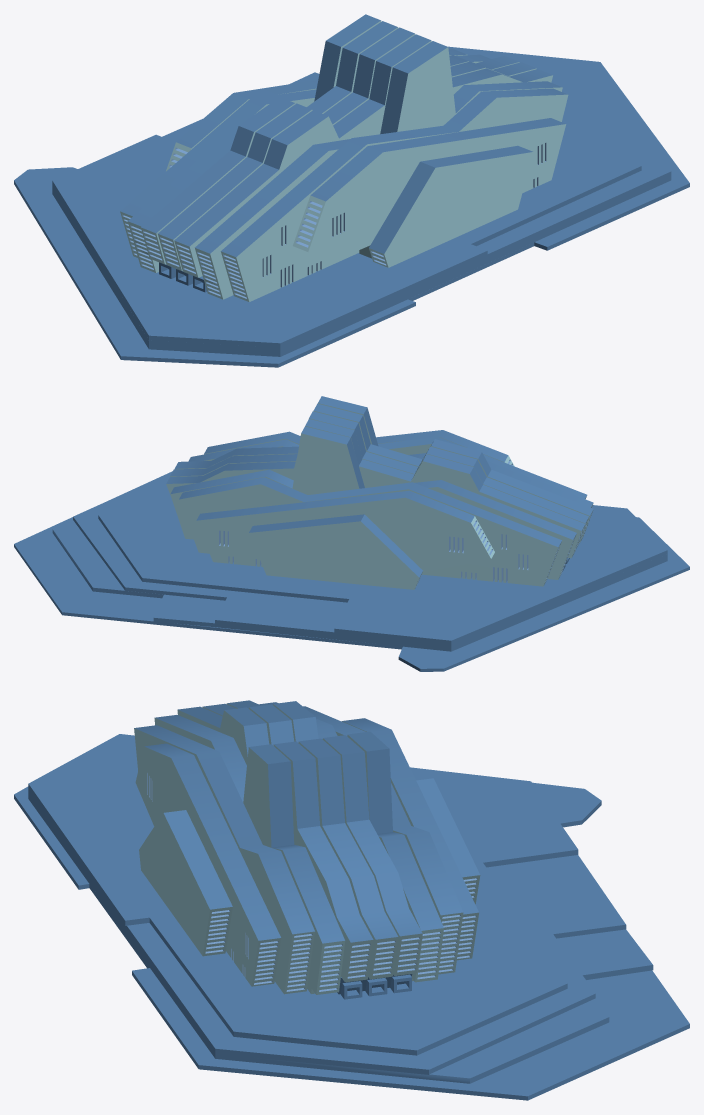
The model's file is djy.gltf.
3 views of the same model, one above another, from view 1: azimuth 30°, elevation 25°; view 2: azimuth 150°, elevation 25°; view 3: azimuth 270°, elevation 25° (orthographic). The views are drawn at different scales.
Visible parts, largest first — view 1: 底座.1, 立方体_2, 立方体_4, 立方体_1, 立方体_3, 立方体_0, 立方体_4.1, 空白.1_3, 空白.1_2, 进出口.1, 空白.1_4; view 2: 底座.1, 立方体_1, 立方体_2, 立方体_4, 立方体_3, 立方体_0, 立方体_4.1; view 3: 底座.1, 立方体_3, 立方体_4, 立方体_1, 立方体_2, 立方体_0, 立方体_4.1, 进出口.1, 空白.1_3, 空白.1_2, 空白.1_4, 空白.1_5.
Part boxes in pixels (left/top/right/bottom): 底座.1: left=14, top=46, right=689, bottom=367; 立方体_2: left=120, top=48, right=568, bottom=301; 立方体_4: left=141, top=21, right=553, bottom=277; 立方体_1: left=166, top=80, right=566, bottom=258; 立方体_3: left=127, top=14, right=562, bottom=299; 立方体_0: left=369, top=145, right=533, bottom=267; 立方体_4.1: left=158, top=27, right=536, bottom=270; 空白.1_3: left=122, top=214, right=321, bottom=298; 空白.1_2: left=169, top=143, right=546, bottom=247; 进出口.1: left=159, top=262, right=206, bottom=292; 空白.1_4: left=130, top=225, right=220, bottom=296; 底座.1: left=14, top=471, right=689, bottom=671; 立方体_1: left=196, top=430, right=514, bottom=570; 立方体_2: left=179, top=431, right=587, bottom=586; 立方体_4: left=166, top=403, right=593, bottom=558; 立方体_3: left=170, top=396, right=593, bottom=579; 立方体_0: left=249, top=514, right=422, bottom=589; 立方体_4.1: left=170, top=411, right=588, bottom=547; 底座.1: left=14, top=734, right=689, bottom=1100; 立方体_3: left=154, top=702, right=443, bottom=994; 立方体_4: left=177, top=700, right=422, bottom=982; 立方体_1: left=135, top=718, right=479, bottom=986; 立方体_2: left=134, top=706, right=463, bottom=994; 立方体_0: left=139, top=778, right=480, bottom=956; 立方体_4.1: left=202, top=703, right=398, bottom=979; 进出口.1: left=337, top=974, right=412, bottom=999; 空白.1_3: left=286, top=914, right=460, bottom=991; 空白.1_2: left=147, top=773, right=476, bottom=984; 空白.1_4: left=319, top=932, right=440, bottom=991; 空白.1_5: left=347, top=937, right=419, bottom=978.
Bounding box in the file's own units: 161 × 39.26 × 127.
